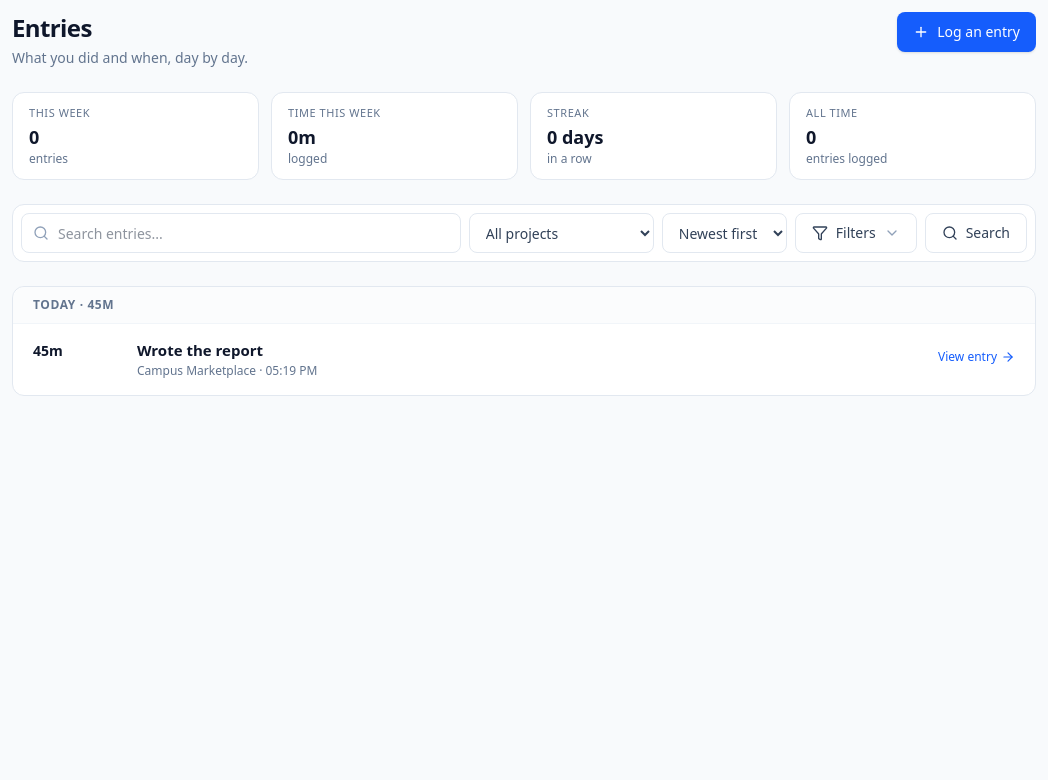
Test: EntriesPage — the timeline › congratulates the user when the overdue view is empty
Expected: the heading "Entries" is shown, [12,11,92,44]
Expected: the text "Wrote the report" is shown, [137,340,263,360]
Click the button "Filters".
click(856, 233)  # box [795,213,917,253]
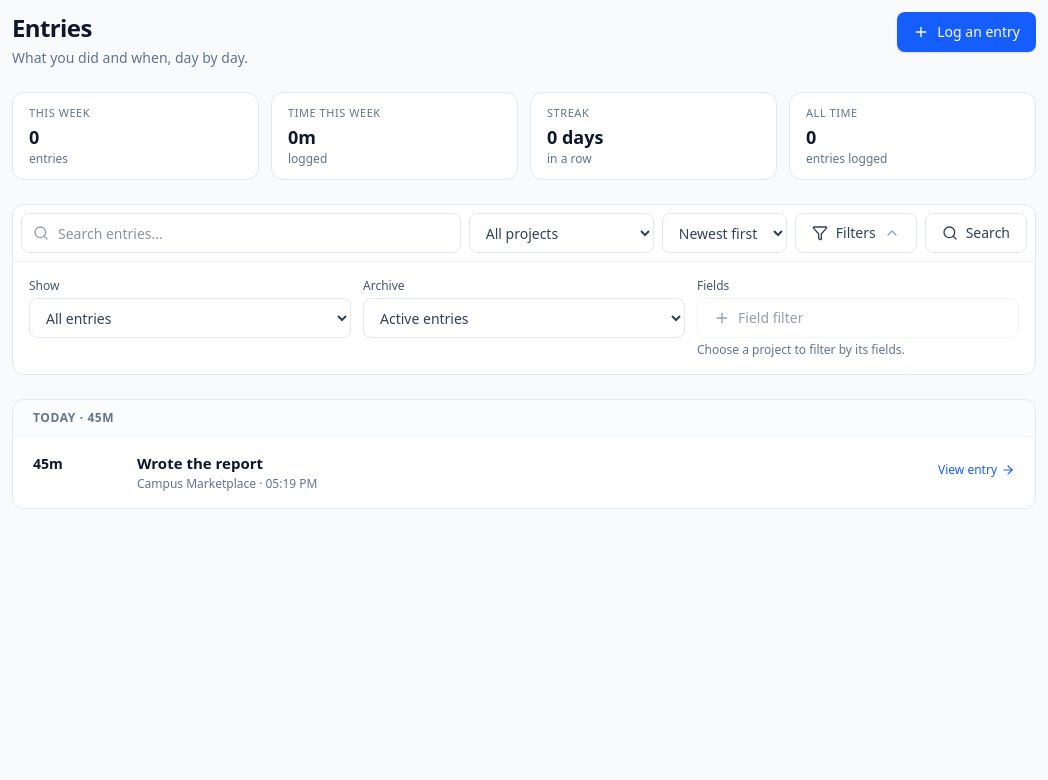
Select "Overdue" in the dropdown labelled "Show" at (190, 318), box [29,298,351,338]
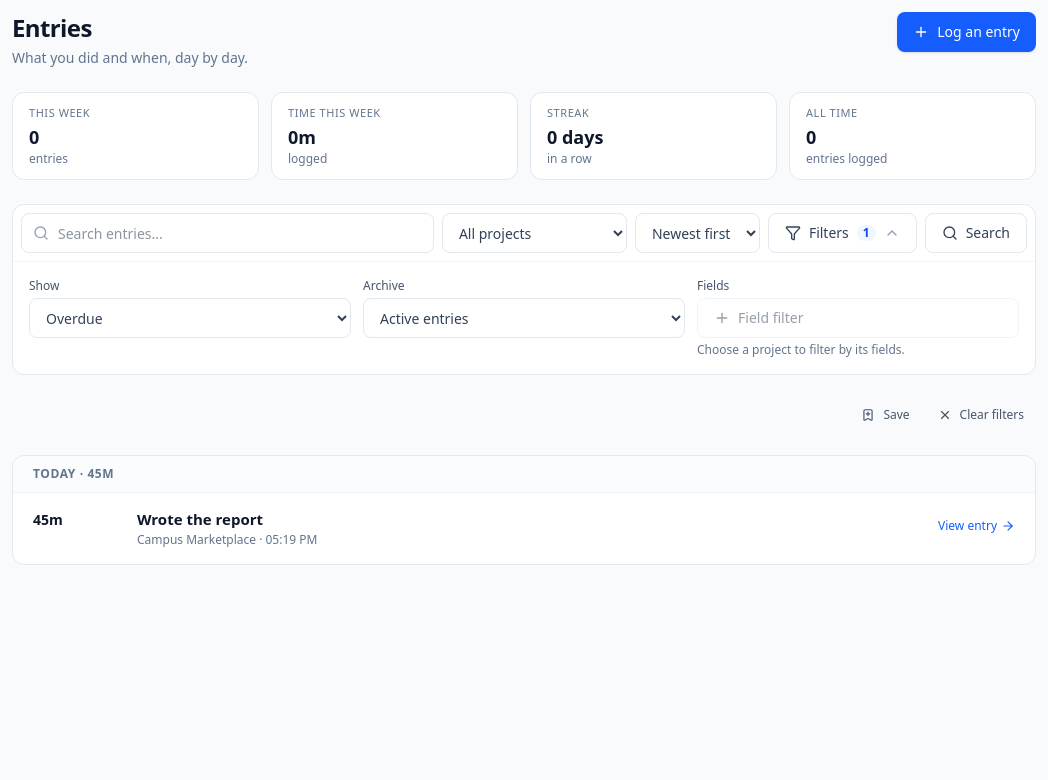
Click the button "Search".
click(976, 233)  # box [925,213,1027,253]
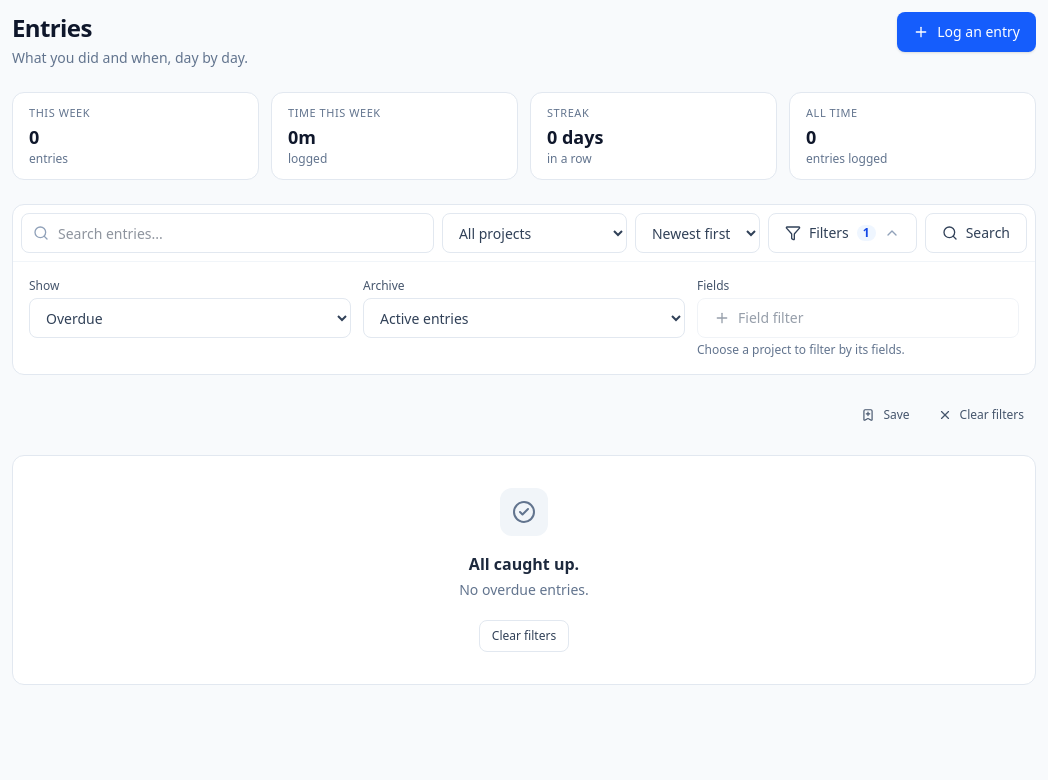
Now the text "All caught up." is shown, box [469,552,579,576]
